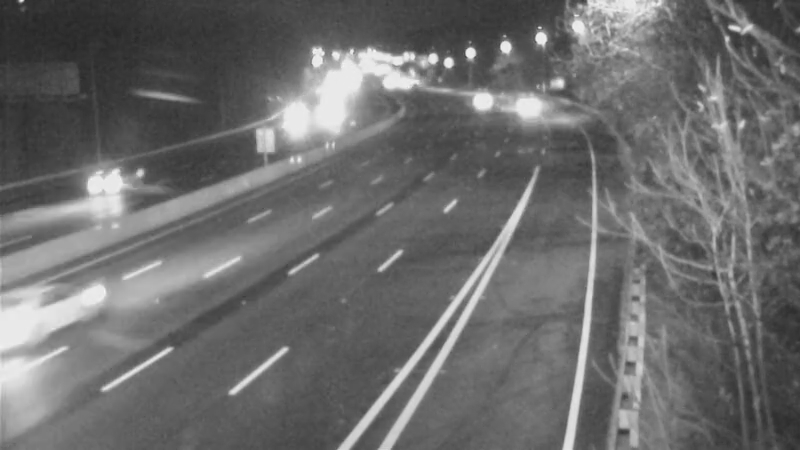vehicle: (1, 268, 92, 378), (58, 145, 138, 225), (506, 79, 556, 129), (452, 71, 502, 121), (266, 97, 316, 147), (303, 87, 353, 137)
